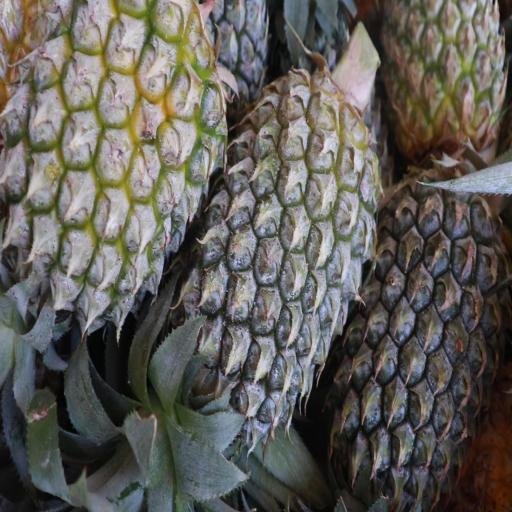------------------------------: (13, 0, 223, 303), (383, 0, 507, 159)
